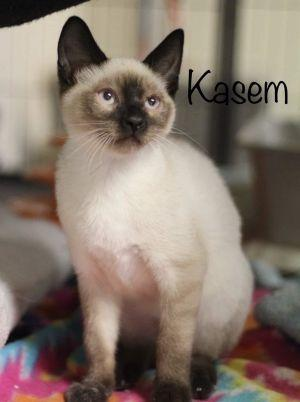siamese: (50, 9, 191, 163)
